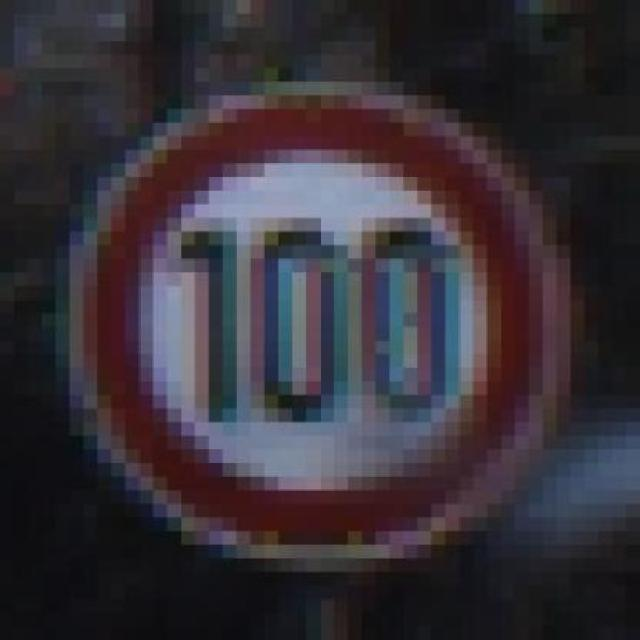forb_speed_over_100: (85, 96, 551, 553)
